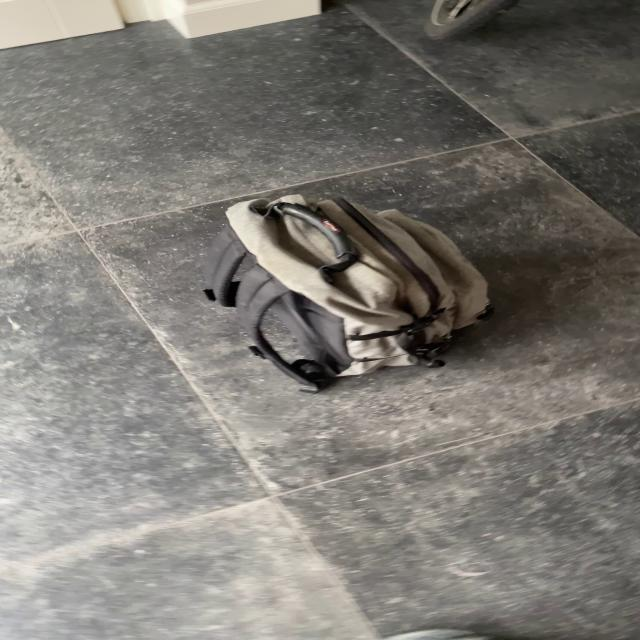backpack: (197, 186, 503, 392)
